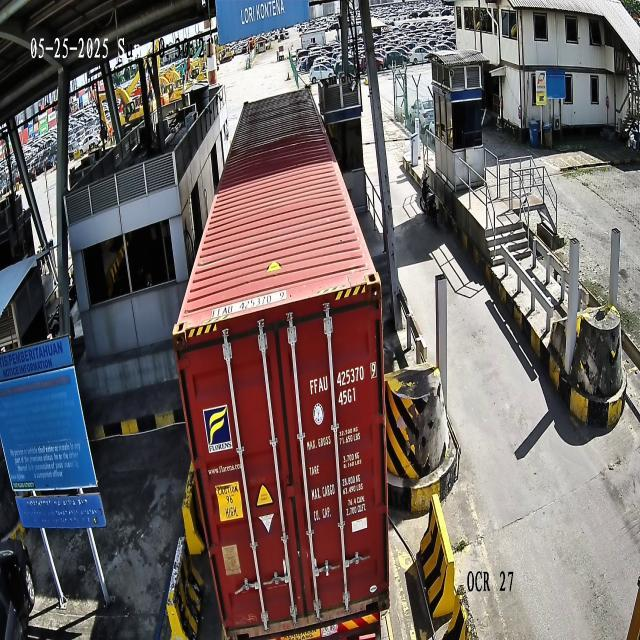ISO: (338, 387, 357, 407)
container_number: (309, 360, 377, 396)
